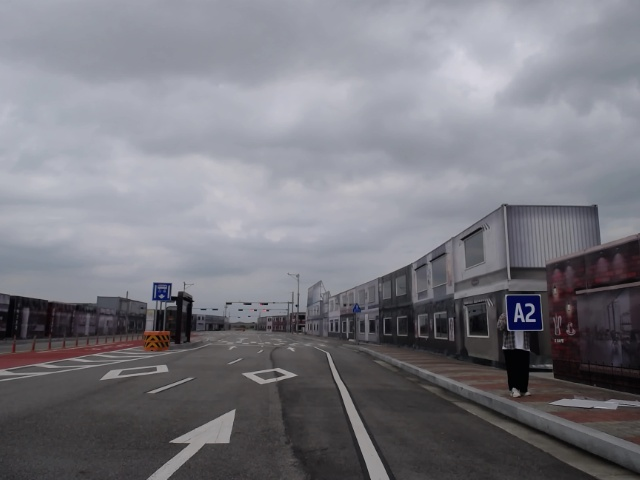delivery_a2: (506, 295, 543, 332)
